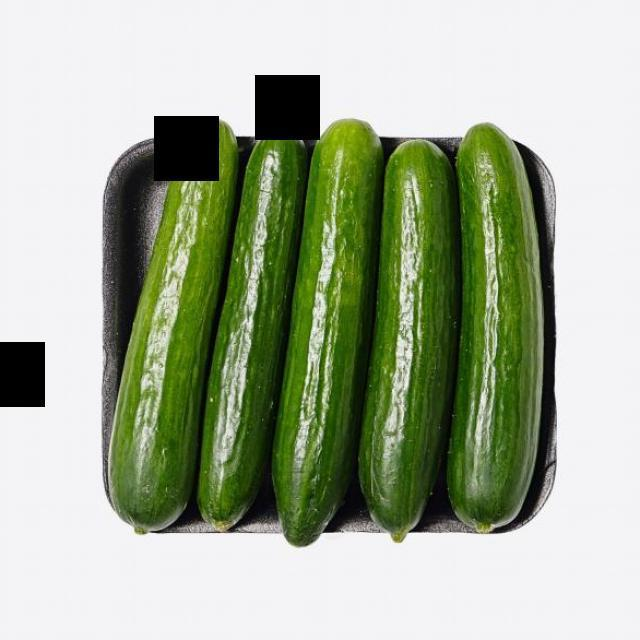cucumber: (106, 117, 228, 551), (276, 116, 376, 548), (198, 126, 300, 538), (456, 122, 548, 532), (379, 137, 451, 538)
